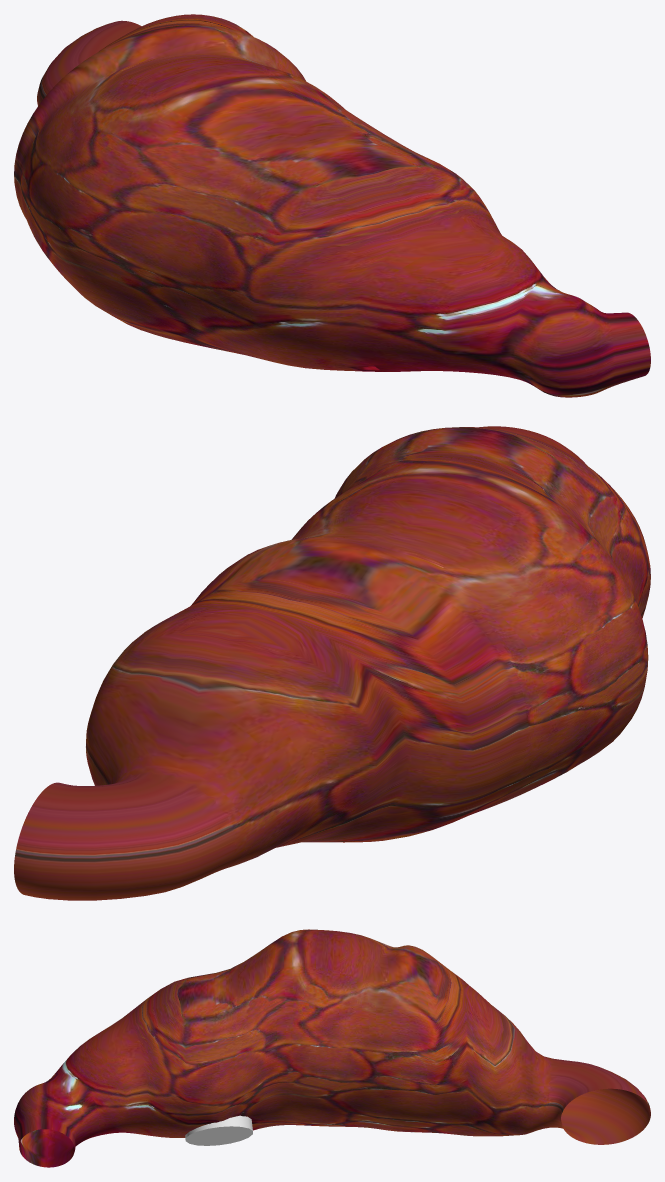
The model's file is cave4.FBX.
The picture shows the model from 3 angles, top to bottom: view 1: azimuth 30°, elevation 25°; view 2: azimuth 150°, elevation 25°; view 3: azimuth 270°, elevation 25°; orthographic projection. The views are drawn at different scales.
Parts seen in each view (by area): view 1: Cylinder002; view 2: Cylinder002; view 3: Cylinder002, Cylinder003.
Part boxes in pixels (bbox=[...]): Cylinder002: bbox=[14, 14, 650, 397]; Cylinder002: bbox=[14, 426, 650, 900]; Cylinder002: bbox=[14, 929, 650, 1167]; Cylinder003: bbox=[185, 1115, 252, 1145].
Bounding box in the file's own units: 26075 × 15716 × 53761.
